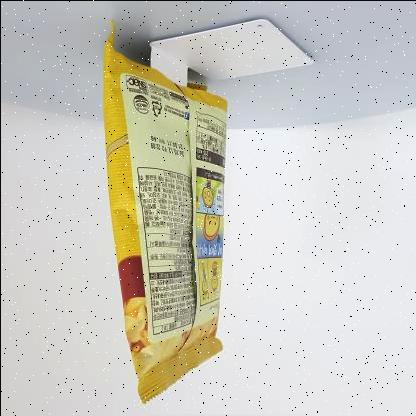Others: (88, 14, 236, 410)
